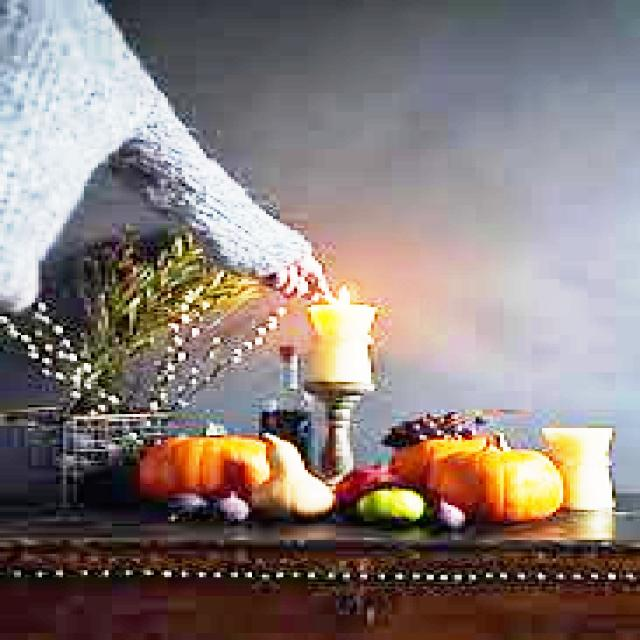api: (323, 278, 361, 308)
